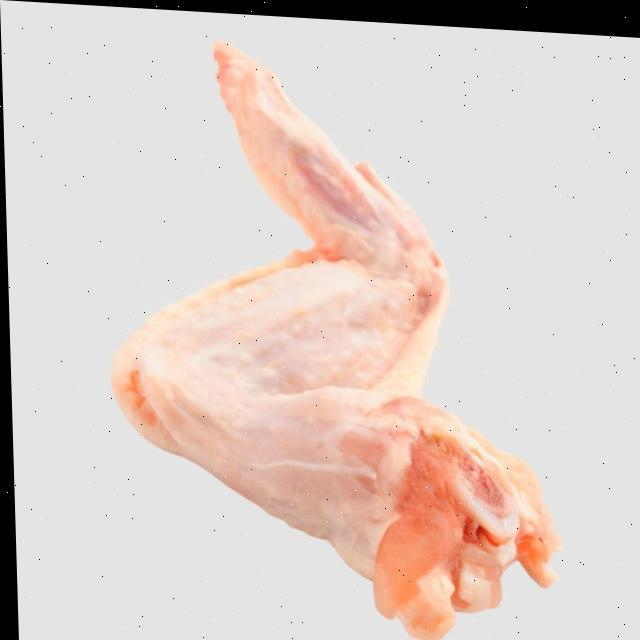wing: (104, 36, 566, 626)
